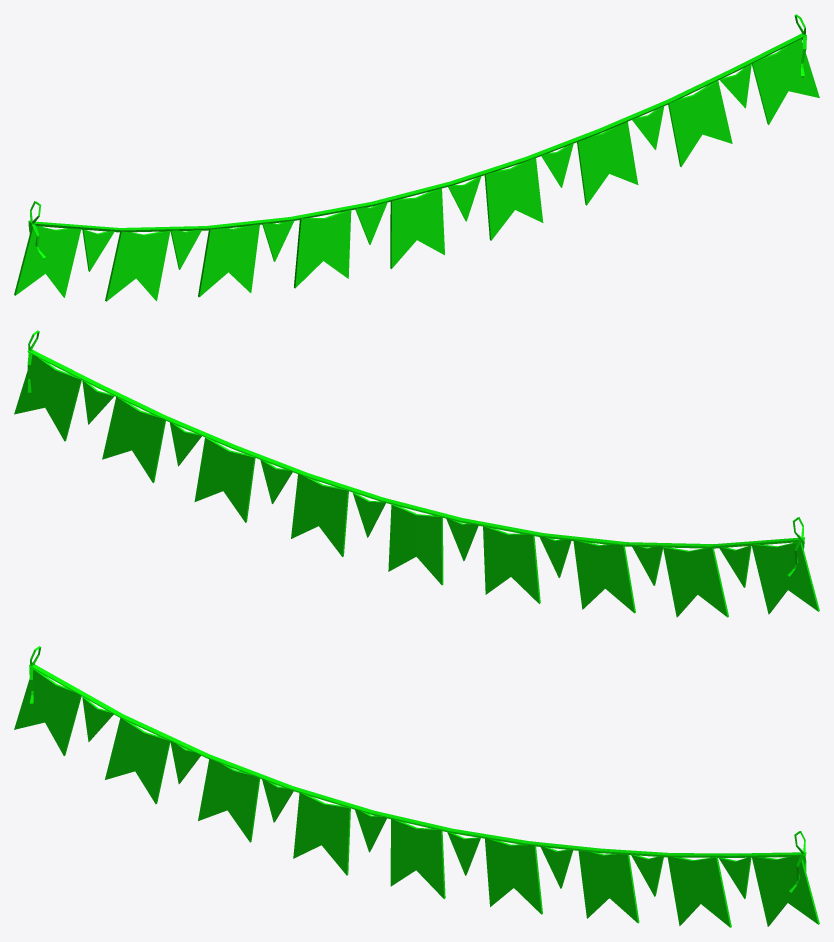
The model's file is SM_Garland_Flags_3m_Fantasy.fbx.
3 views of the same model, one above another, from view 1: azimuth 30°, elevation 25°; view 2: azimuth 150°, elevation 25°; view 3: azimuth 330°, elevation 25° (orthographic).
Visible parts, largest first — view 1: garland-flags-3m-fantasy; view 2: garland-flags-3m-fantasy; view 3: garland-flags-3m-fantasy.
Boxes of the visible parts, bbox=[...] form: garland-flags-3m-fantasy: bbox=[14, 14, 819, 301]; garland-flags-3m-fantasy: bbox=[14, 330, 819, 617]; garland-flags-3m-fantasy: bbox=[14, 646, 819, 927].
Size of the model in its own units: 3.11 by 0.5673 by 0.092.
